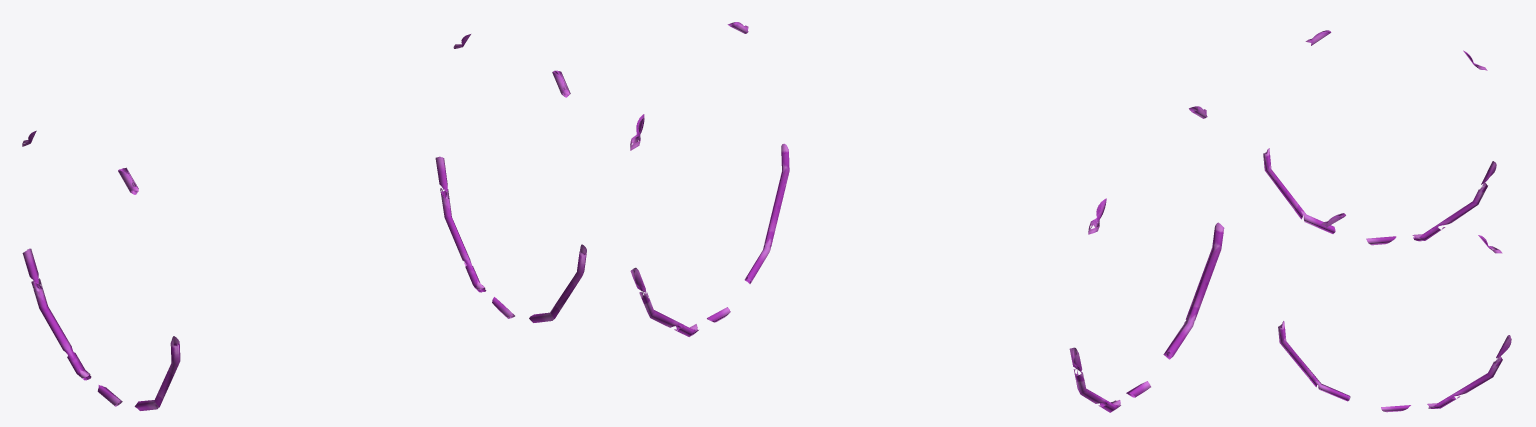
Rendered from accs_000_u.obj.
3 renders of one model, left to right at view 1: azimuth 30°, elevation 25°; view 2: azimuth 150°, elevation 25°; view 3: azimuth 270°, elevation 25°, orthographic. The views are drawn at different scales.
Visible parts, largest first — view 1: accs_000_u_high_1, accs_000_u_med_1; view 2: accs_000_u_high_1, accs_000_u_med_1; view 3: accs_000_u_high_1, accs_000_u_med_1.
Boxes of the visible parts, <box> form: accs_000_u_high_1: <box>22,34,586,410</box>; accs_000_u_med_1: <box>23,44,586,408</box>; accs_000_u_high_1: <box>630,22,1224,412</box>; accs_000_u_med_1: <box>630,22,1218,407</box>; accs_000_u_high_1: <box>1263,30,1511,412</box>; accs_000_u_med_1: <box>1264,30,1511,407</box>.
Size of the model in its own units: 0.1494 by 0.0942 by 0.0947.
